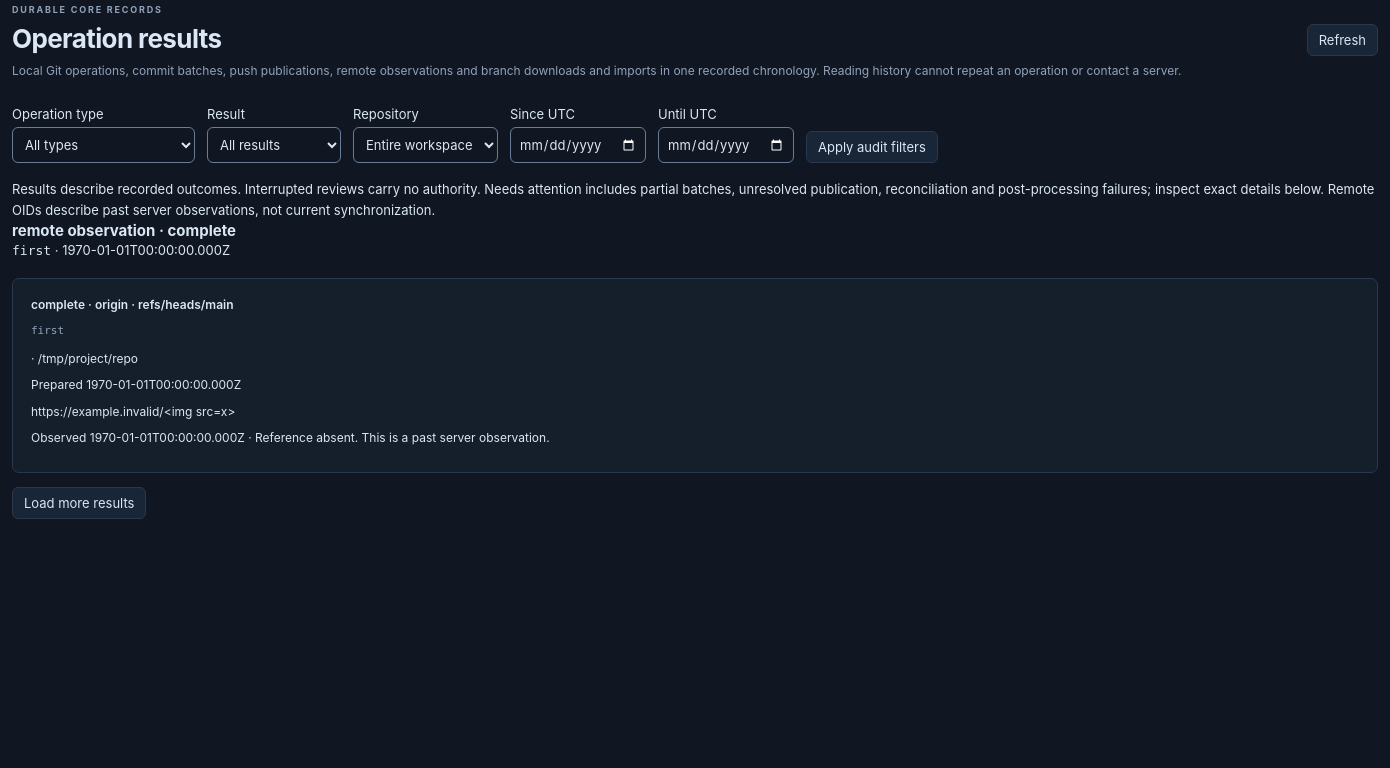
reads workspace-wide history, pages without replay, and refreshes to current results
Expected: the text "Reference absent" shows "1970-01-01T00:00:00.000Z", [90,430,245,445]
Click the button "Load more results" at x=79, y=503, box [12,487,146,519]
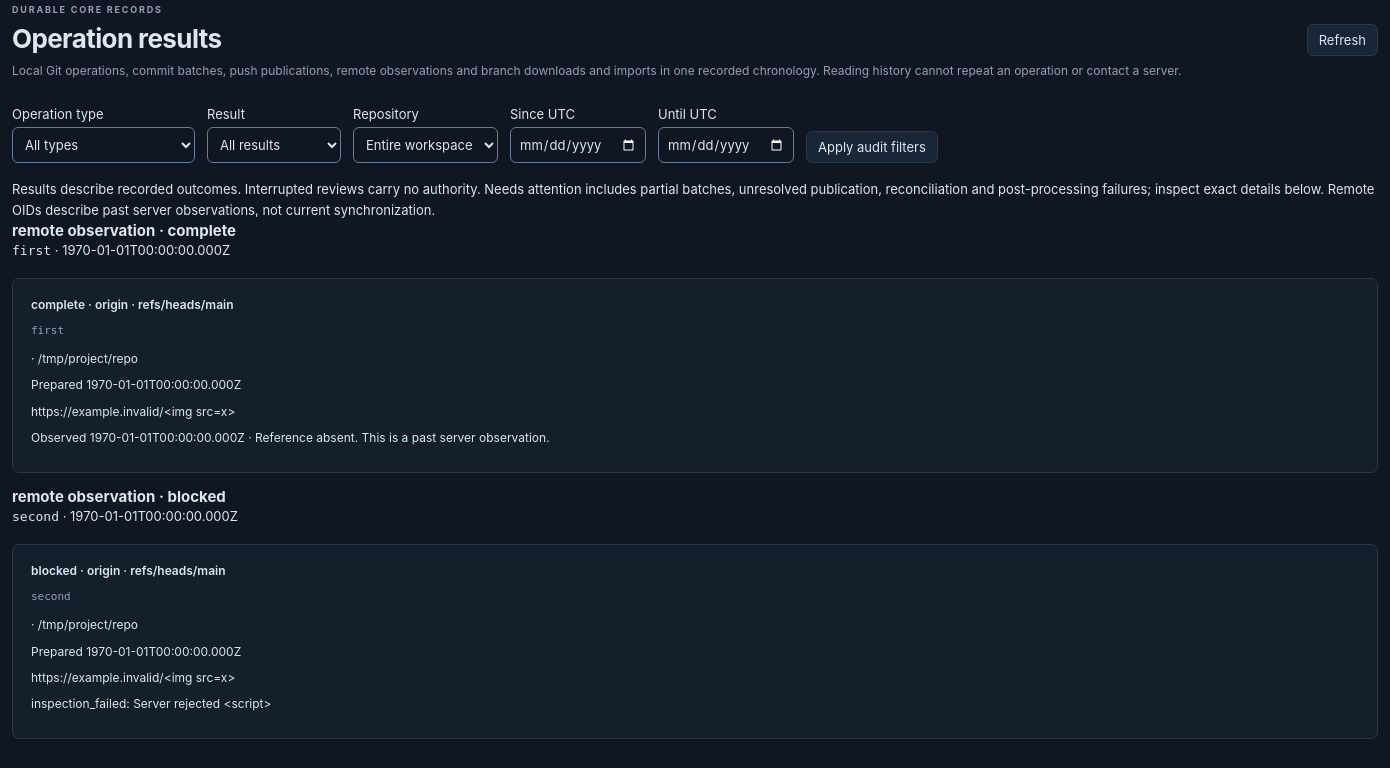
Expected: the 1st text "first" is shown, [12,243,51,258]
Expected: the message shows "Server rejected <script>", [133,696,271,711]
Click the button "Refresh" at x=1342, y=40, box [1307,24,1378,56]
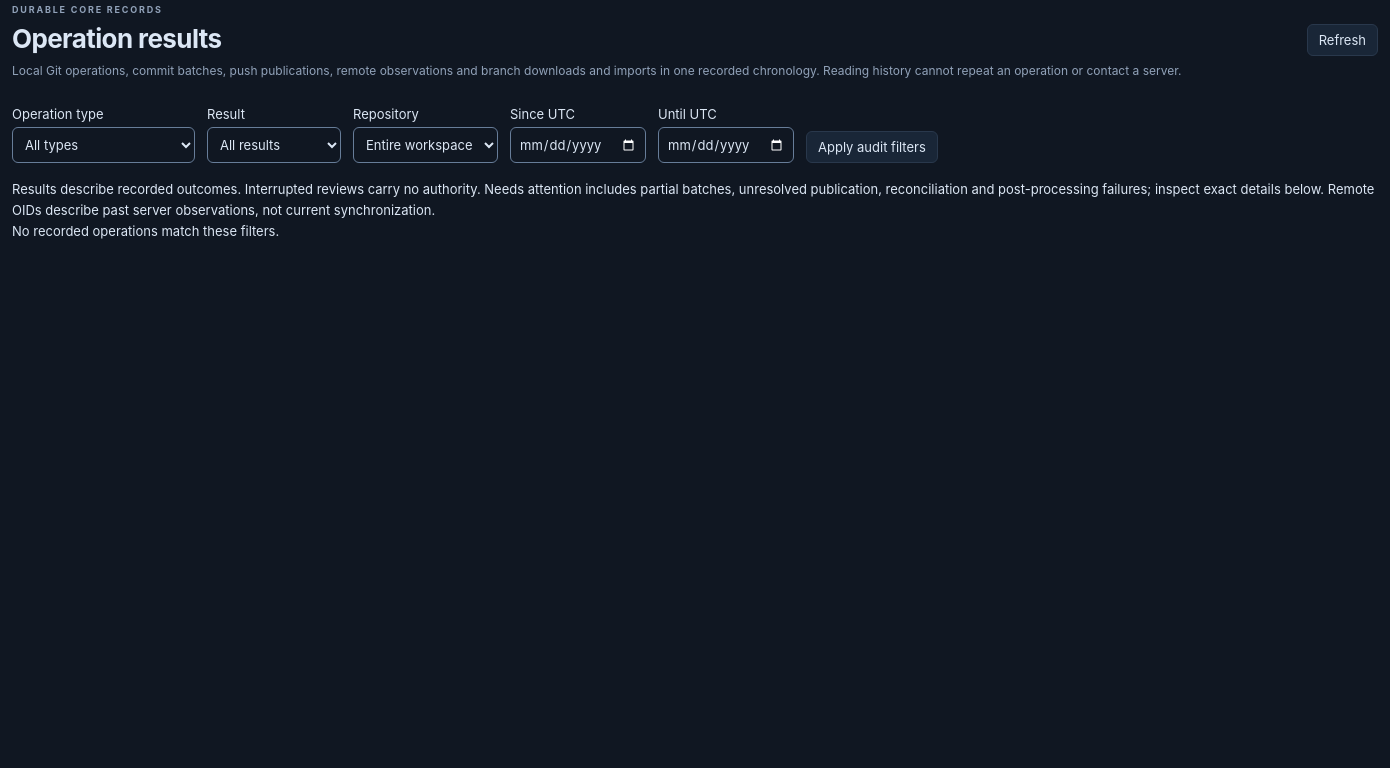
Expected: the text "No recorded operations match these filters." is shown, [12,223,279,239]
Expected: the text "first" is gone
